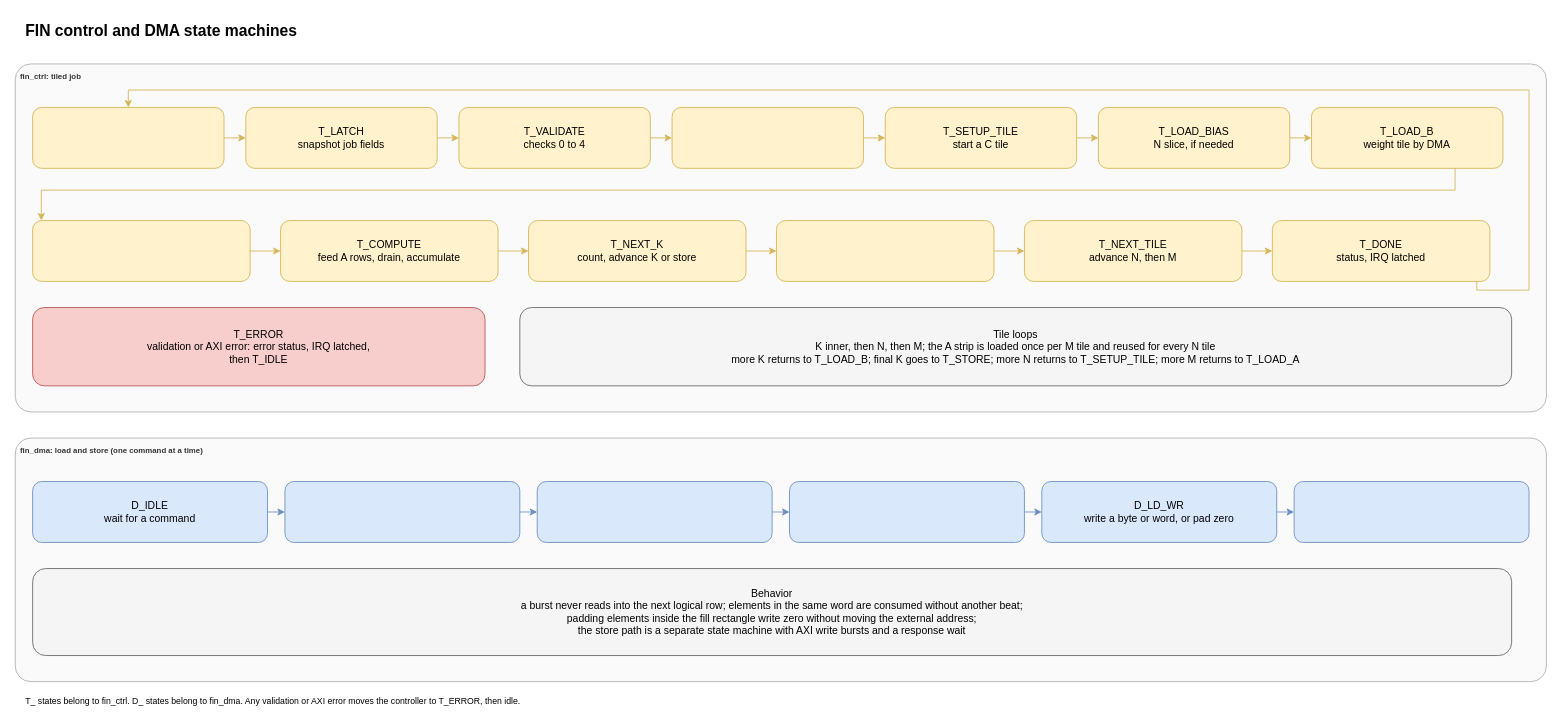
Image size: 1562x726. Some labels were removed from this diagram. Here are the shapes that lost their labels. From the top down, the centre of each, then its label:
pixel 128 137: T_IDLE wait for start
pixel 767 137: T_LOAD_A A strip by DMA
pixel 141 250: T_PRELOAD prime RAM, load 16 PE rows
pixel 885 250: T_STORE DMA the valid C tile
pixel 402 511: D_LD_ROW last word of the row
pixel 654 511: D_LD_AR read address, burst count
pixel 906 511: D_LD_R accept a 32-bit beat
pixel 1411 511: D_RSP completion, error bit
